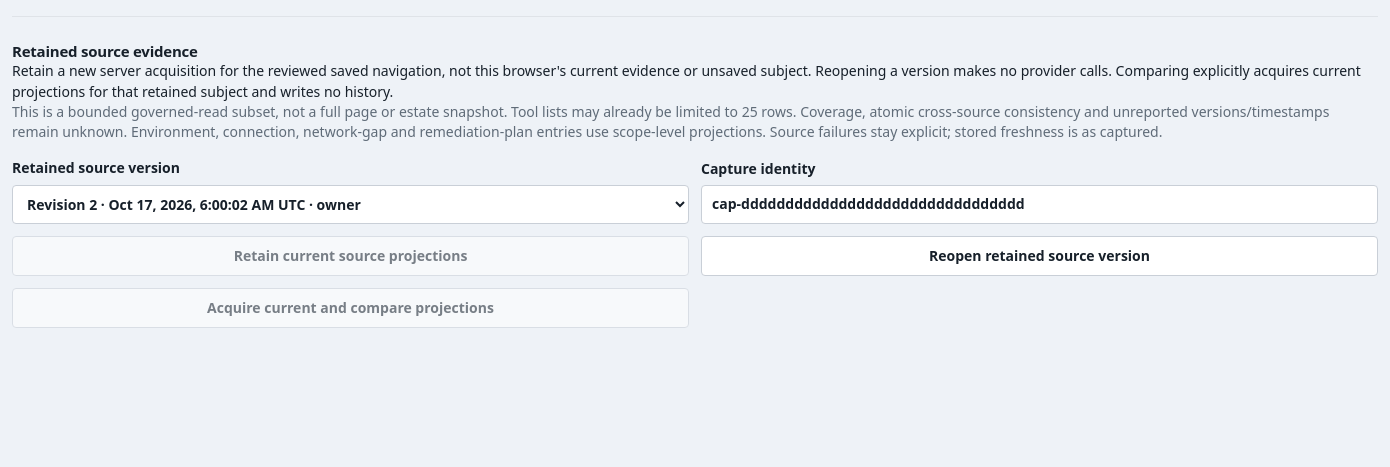
Test: retained investigation source evidence › allows readers to inspect and explicitly compare, never retain new versions
Expected: the button "Retain current source projections" is disabled, [12, 236, 689, 276]
Click the button "Reopen retained source version".
click(1040, 256)  # box [701, 236, 1378, 276]
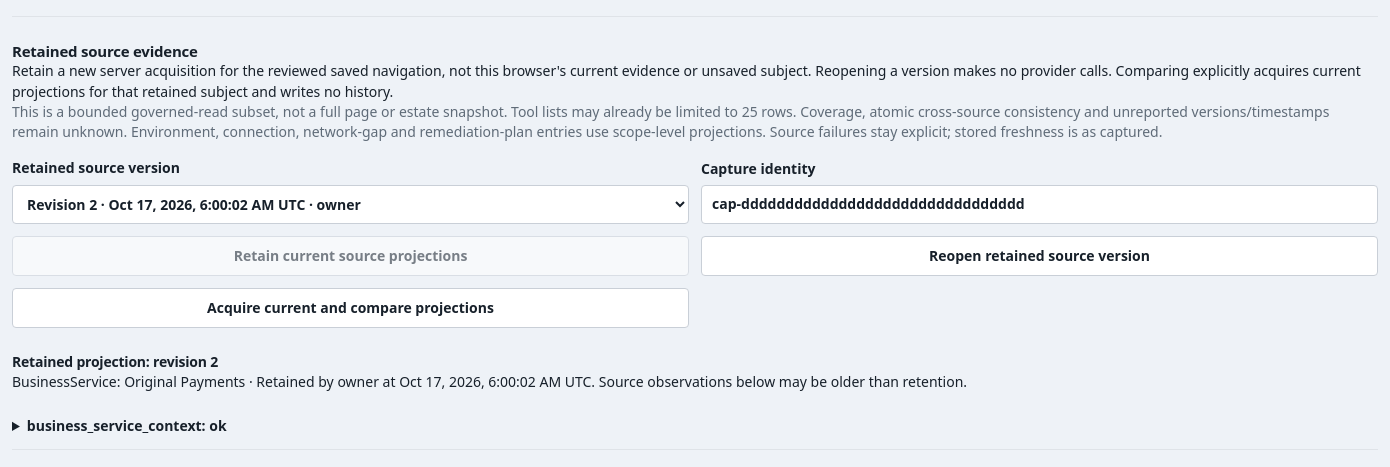
Expected: the heading "Retained projection: revision 2" is shown, [12, 352, 218, 371]
Expected: the button "Acquire current and compare projections" is enabled, [12, 288, 689, 328]
